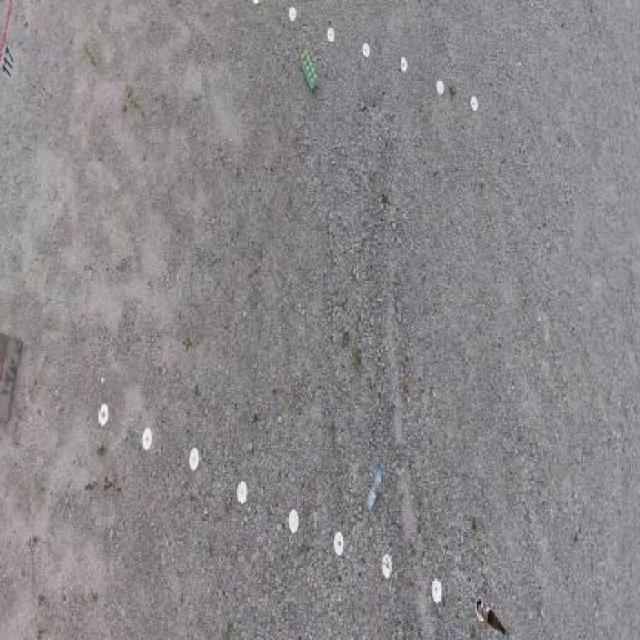Garbage: (477, 599, 505, 634), (365, 462, 383, 515), (299, 48, 319, 92)
